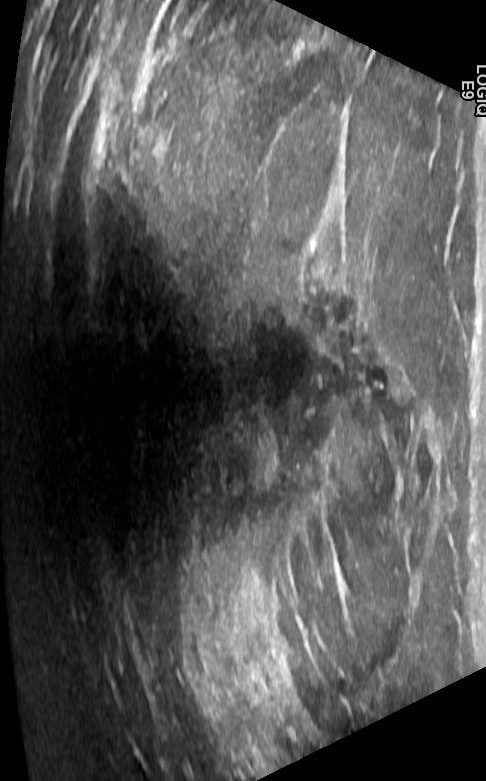Malignant: (227, 299, 397, 434)
